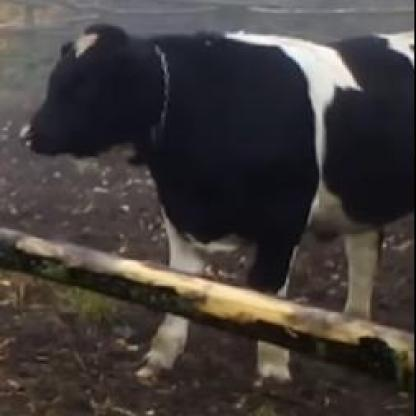cow: (16, 22, 416, 386)
